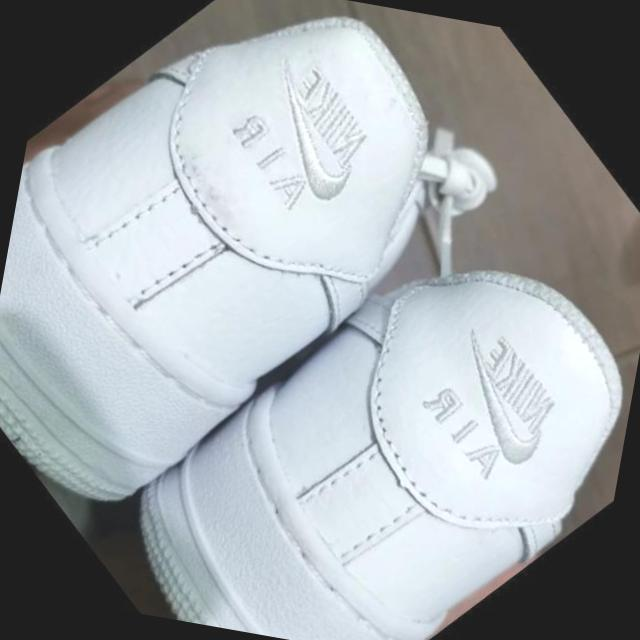nike_fake_airforce: (0, 0, 543, 596), (59, 122, 640, 640)
